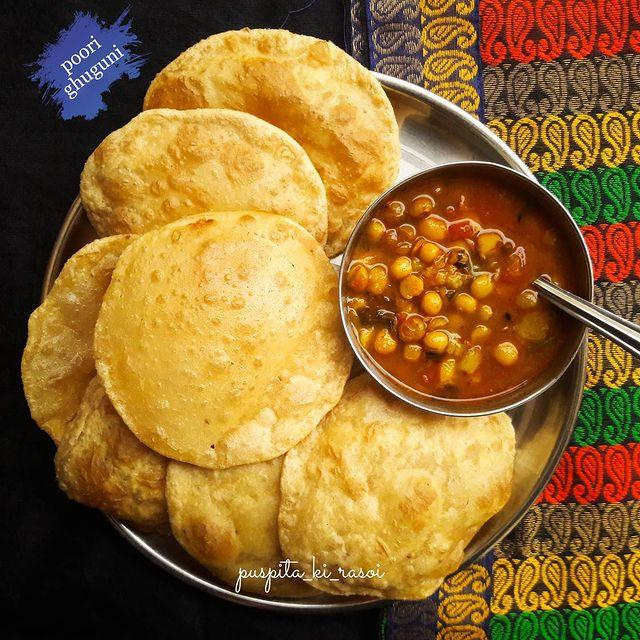Chole: (333, 160, 582, 413)
